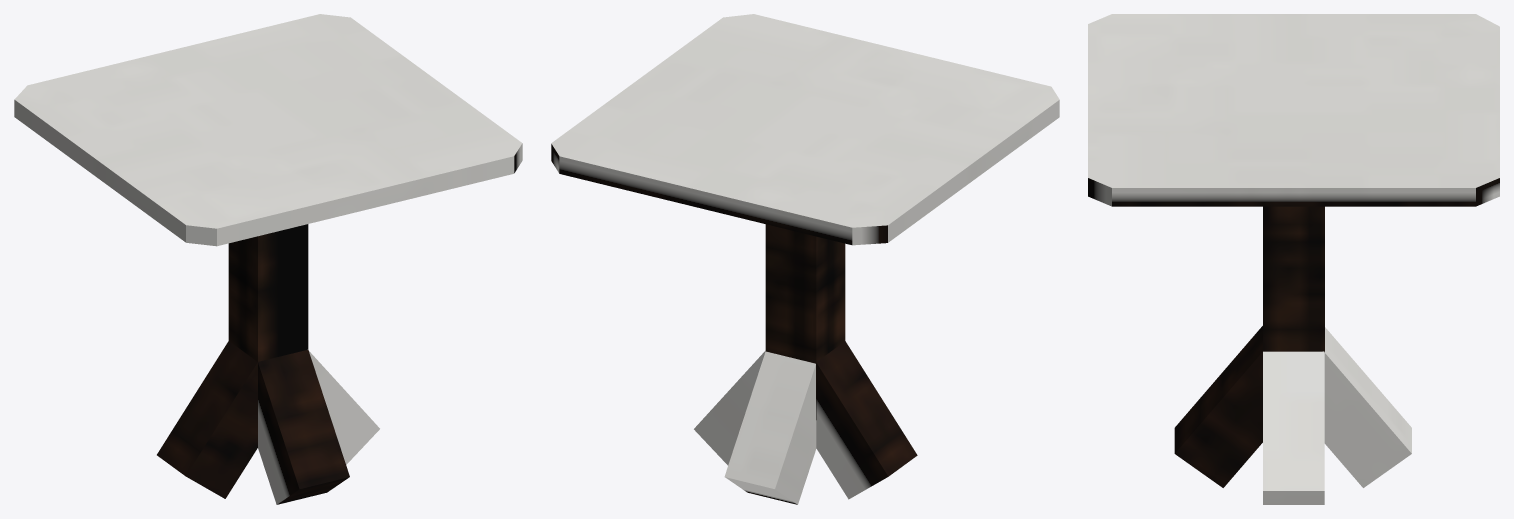
3 views of the same model, side by side, from view 1: azimuth 30°, elevation 25°; view 2: azimuth 150°, elevation 25°; view 3: azimuth 270°, elevation 25° (orthographic). The views are drawn at different scales.
Visible parts, largest first — view 1: top_Cube, leg2_Cube.007, stick_Cube.001, leg4_Cube.009, leg3_Cube.008; view 2: top_Cube, leg1_Cube.002, stick_Cube.001, leg4_Cube.009, leg3_Cube.008; view 3: top_Cube, leg3_Cube.008, stick_Cube.001, leg2_Cube.007, leg1_Cube.002.
Boxes of the visible parts, left/top/right/bottom form: top_Cube: left=14, top=14, right=522, bottom=246; leg2_Cube.007: left=258, top=350, right=349, bottom=504; stick_Cube.001: left=228, top=224, right=308, bottom=361; leg4_Cube.009: left=157, top=341, right=257, bottom=498; leg3_Cube.008: left=307, top=349, right=379, bottom=464; top_Cube: left=551, top=14, right=1059, bottom=245; leg1_Cube.002: left=724, top=351, right=816, bottom=504; stick_Cube.001: left=765, top=224, right=845, bottom=419; leg4_Cube.009: left=816, top=341, right=917, bottom=499; leg3_Cube.008: left=694, top=351, right=765, bottom=465; top_Cube: left=1088, top=14, right=1499, bottom=206; leg3_Cube.008: left=1263, top=351, right=1324, bottom=504; stick_Cube.001: left=1263, top=206, right=1324, bottom=352; leg2_Cube.007: left=1174, top=326, right=1263, bottom=487; leg1_Cube.002: left=1323, top=327, right=1411, bottom=487.
Bounding box in the file's own units: 1 × 1 × 1.
